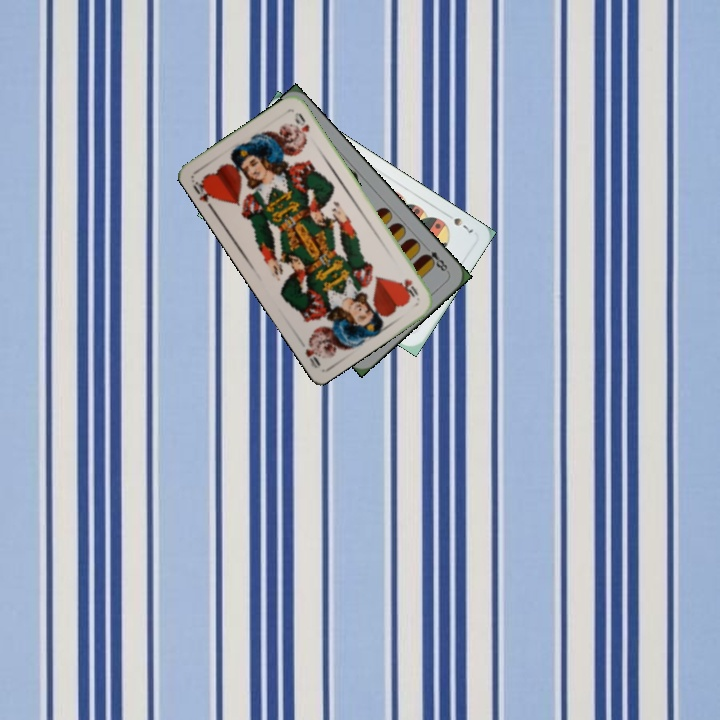E8: (419, 242, 451, 275)
HO: (188, 175, 219, 213), (397, 275, 421, 300)
S7: (441, 209, 476, 236)
